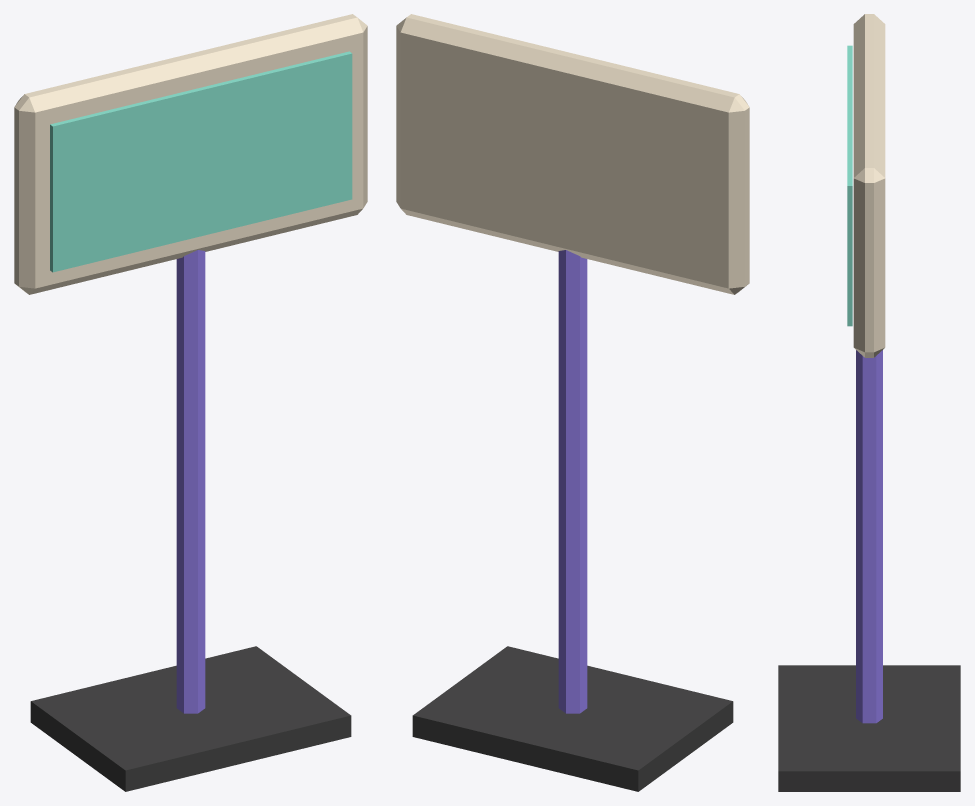
The picture shows the model from 3 angles, left to right: view 1: azimuth 30°, elevation 25°; view 2: azimuth 150°, elevation 25°; view 3: azimuth 270°, elevation 25°; orthographic projection. The views are drawn at different scales.
Parts seen in each view (by area): view 1: Inset, Sign panel, Foot, Stand; view 2: Sign panel, Foot, Stand; view 3: Foot, Sign panel, Stand, Inset.
Part boxes in pixels (<box>): Inset: <box>50,51,352,272</box>; Sign panel: <box>14,14,367,294</box>; Foot: <box>30,646,351,791</box>; Stand: <box>176,250,205,713</box>; Sign panel: <box>396,14,749,294</box>; Foot: <box>412,646,733,791</box>; Stand: <box>558,250,587,713</box>; Foot: <box>778,665,960,791</box>; Sign panel: <box>853,14,885,357</box>; Stand: <box>856,350,882,723</box>; Inset: <box>847,45,852,326</box>.
Bounding box in the file's own units: 85 × 157 × 40.
